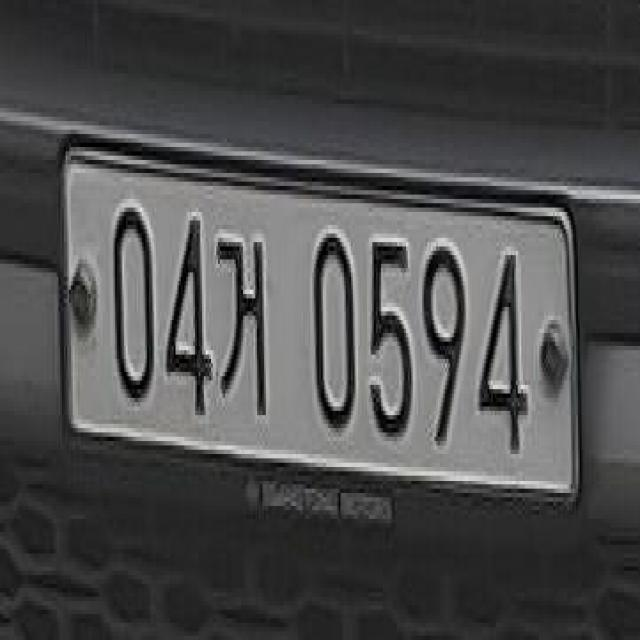illegal_plate: (56, 134, 579, 536)
